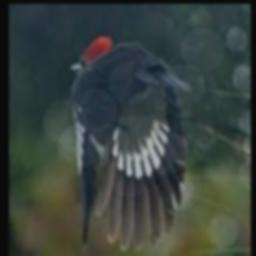Woodpecker: (70, 35, 192, 255)
